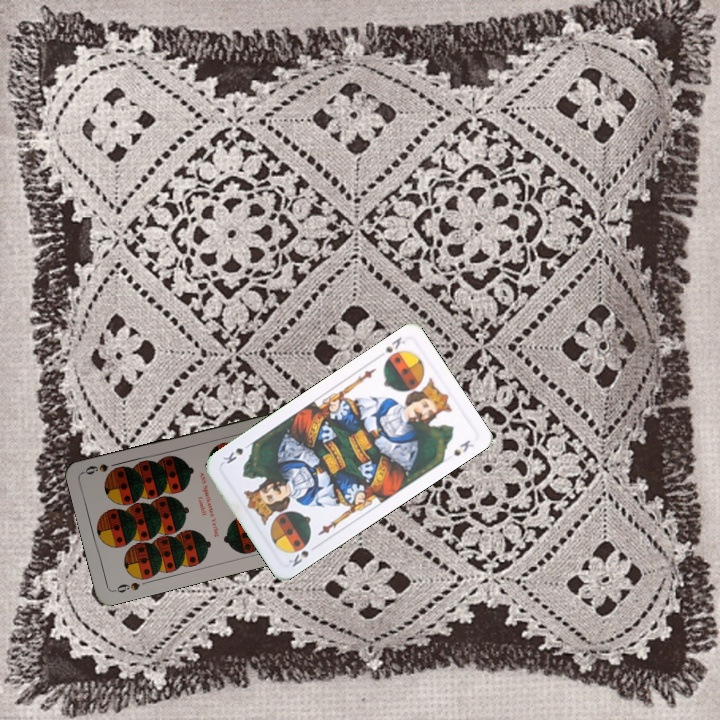S9: (110, 578, 142, 595)
SK: (285, 537, 314, 570), (381, 333, 410, 356)
